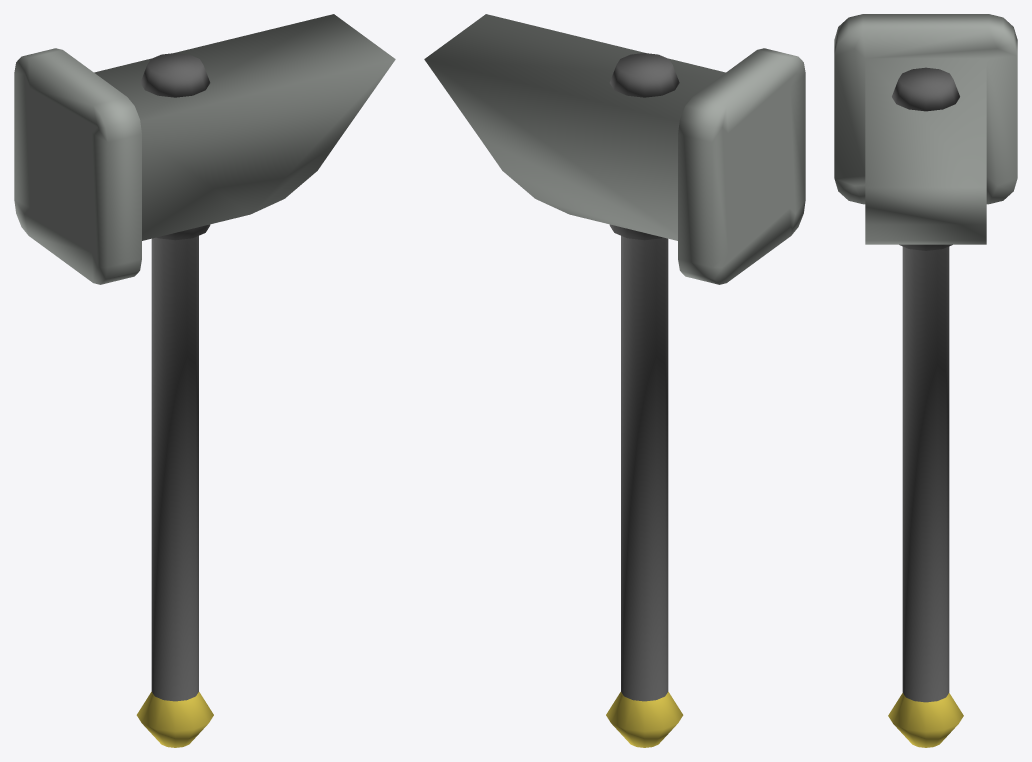
Rendered from Hammer2.fbx.
3 renders of one model, left to right at view 1: azimuth 30°, elevation 25°; view 2: azimuth 150°, elevation 25°; view 3: azimuth 270°, elevation 25°, orthographic. The views are drawn at different scales.
Visible parts, largest first — view 1: Circle.004; view 2: Circle.004; view 3: Circle.004.
Part boxes in pixels (<box>): Circle.004: <box>14,14,395,747</box>; Circle.004: <box>424,14,805,747</box>; Circle.004: <box>834,14,1017,747</box>.
Size of the model in its own units: 26.1 by 56.4 by 13.92.
Materials: 1 (1 with a texture image).
